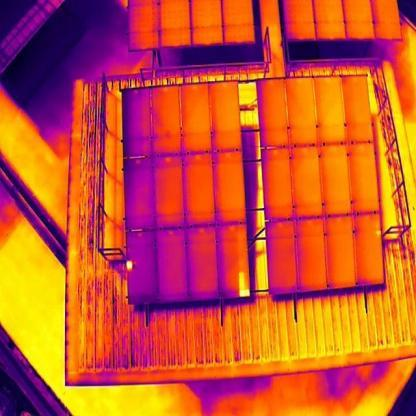anomaly: (236, 272, 252, 297), (120, 258, 137, 271)
